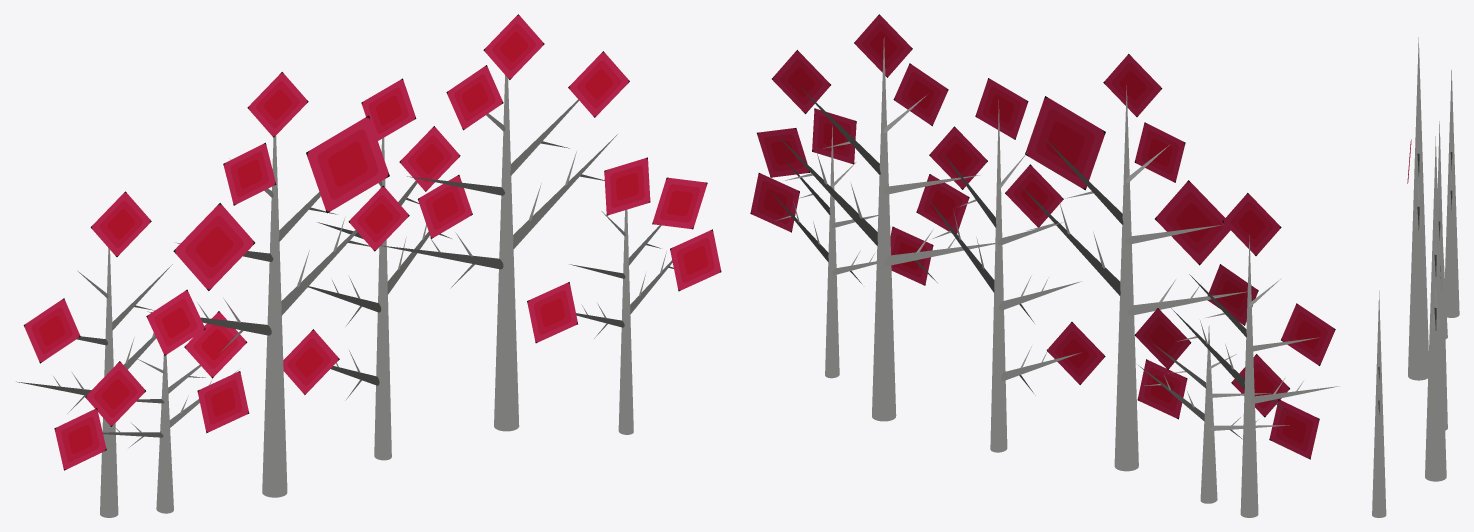
File: Trees_Leaves_New_7.obj
3 renders of one model, left to right at view 1: azimuth 30°, elevation 25°; view 2: azimuth 150°, elevation 25°; view 3: azimuth 270°, elevation 25°, orthographic. The views are drawn at different scales.
Parts seen in each view (by area): view 1: pCone1_ncl1_2, pCone1, pPlane230, pPlane231, pCone1_ncl1_5, pCone1_ncl1_4, pPlane238, pCone1_ncl1_3, pPlane227, pPlane224, pPlane236, pPlane195 (+19 smaller); view 2: pCone1, pCone1_ncl1_2, pPlane230, pPlane231, pCone1_ncl1_5, pCone1_ncl1_4, pCone1_ncl1_3, pPlane227, pPlane195, pPlane221, pPlane241, pPlane228 (+21 smaller); view 3: pCone1_ncl1_2, pCone1, pCone1_ncl1_4, pCone1_ncl1_3, pCone1_ncl1_5, pCone2, pCone2_ncl1_2, pCone1_ncl1_1.
Boxes of the visible parts, x1,y1,x2,y2 form: pCone1_ncl1_2: [494, 75, 519, 431]; pCone1: [262, 136, 287, 497]; pPlane230: [306, 115, 389, 213]; pPlane231: [173, 203, 254, 290]; pCone1_ncl1_5: [374, 138, 391, 460]; pCone1_ncl1_4: [100, 248, 118, 517]; pPlane238: [146, 289, 205, 355]; pCone1_ncl1_3: [618, 209, 633, 434]; pPlane227: [568, 51, 629, 117]; pPlane224: [604, 157, 650, 215]; pPlane236: [223, 142, 276, 205]; pPlane195: [54, 408, 106, 470]; pCone1: [1114, 85, 1138, 471]; pCone1_ncl1_2: [872, 37, 896, 421]; pPlane230: [1025, 96, 1105, 190]; pPlane231: [1155, 180, 1230, 265]; pCone1_ncl1_5: [990, 100, 1007, 452]; pCone1_ncl1_4: [1240, 235, 1258, 517]; pCone1_ncl1_3: [825, 126, 839, 378]; pPlane227: [772, 50, 830, 113]; pPlane195: [1269, 399, 1319, 459]; pPlane221: [975, 78, 1028, 139]; pPlane241: [1222, 193, 1281, 255]; pPlane228: [893, 63, 948, 126]; pCone1_ncl1_2: [1425, 136, 1446, 481]; pCone1: [1408, 37, 1428, 380]; pCone1_ncl1_4: [1445, 70, 1459, 317]; pCone1_ncl1_3: [1372, 290, 1386, 517]; pCone1_ncl1_5: [1437, 121, 1447, 430]; pCone2: [1414, 196, 1423, 227]; pCone2_ncl1_2: [1431, 297, 1440, 328]; pCone1_ncl1_1: [1443, 247, 1447, 338].
Bounding box in the file's own units: 436 × 269 × 59.63.
Materials: 2 (2 with a texture image).
